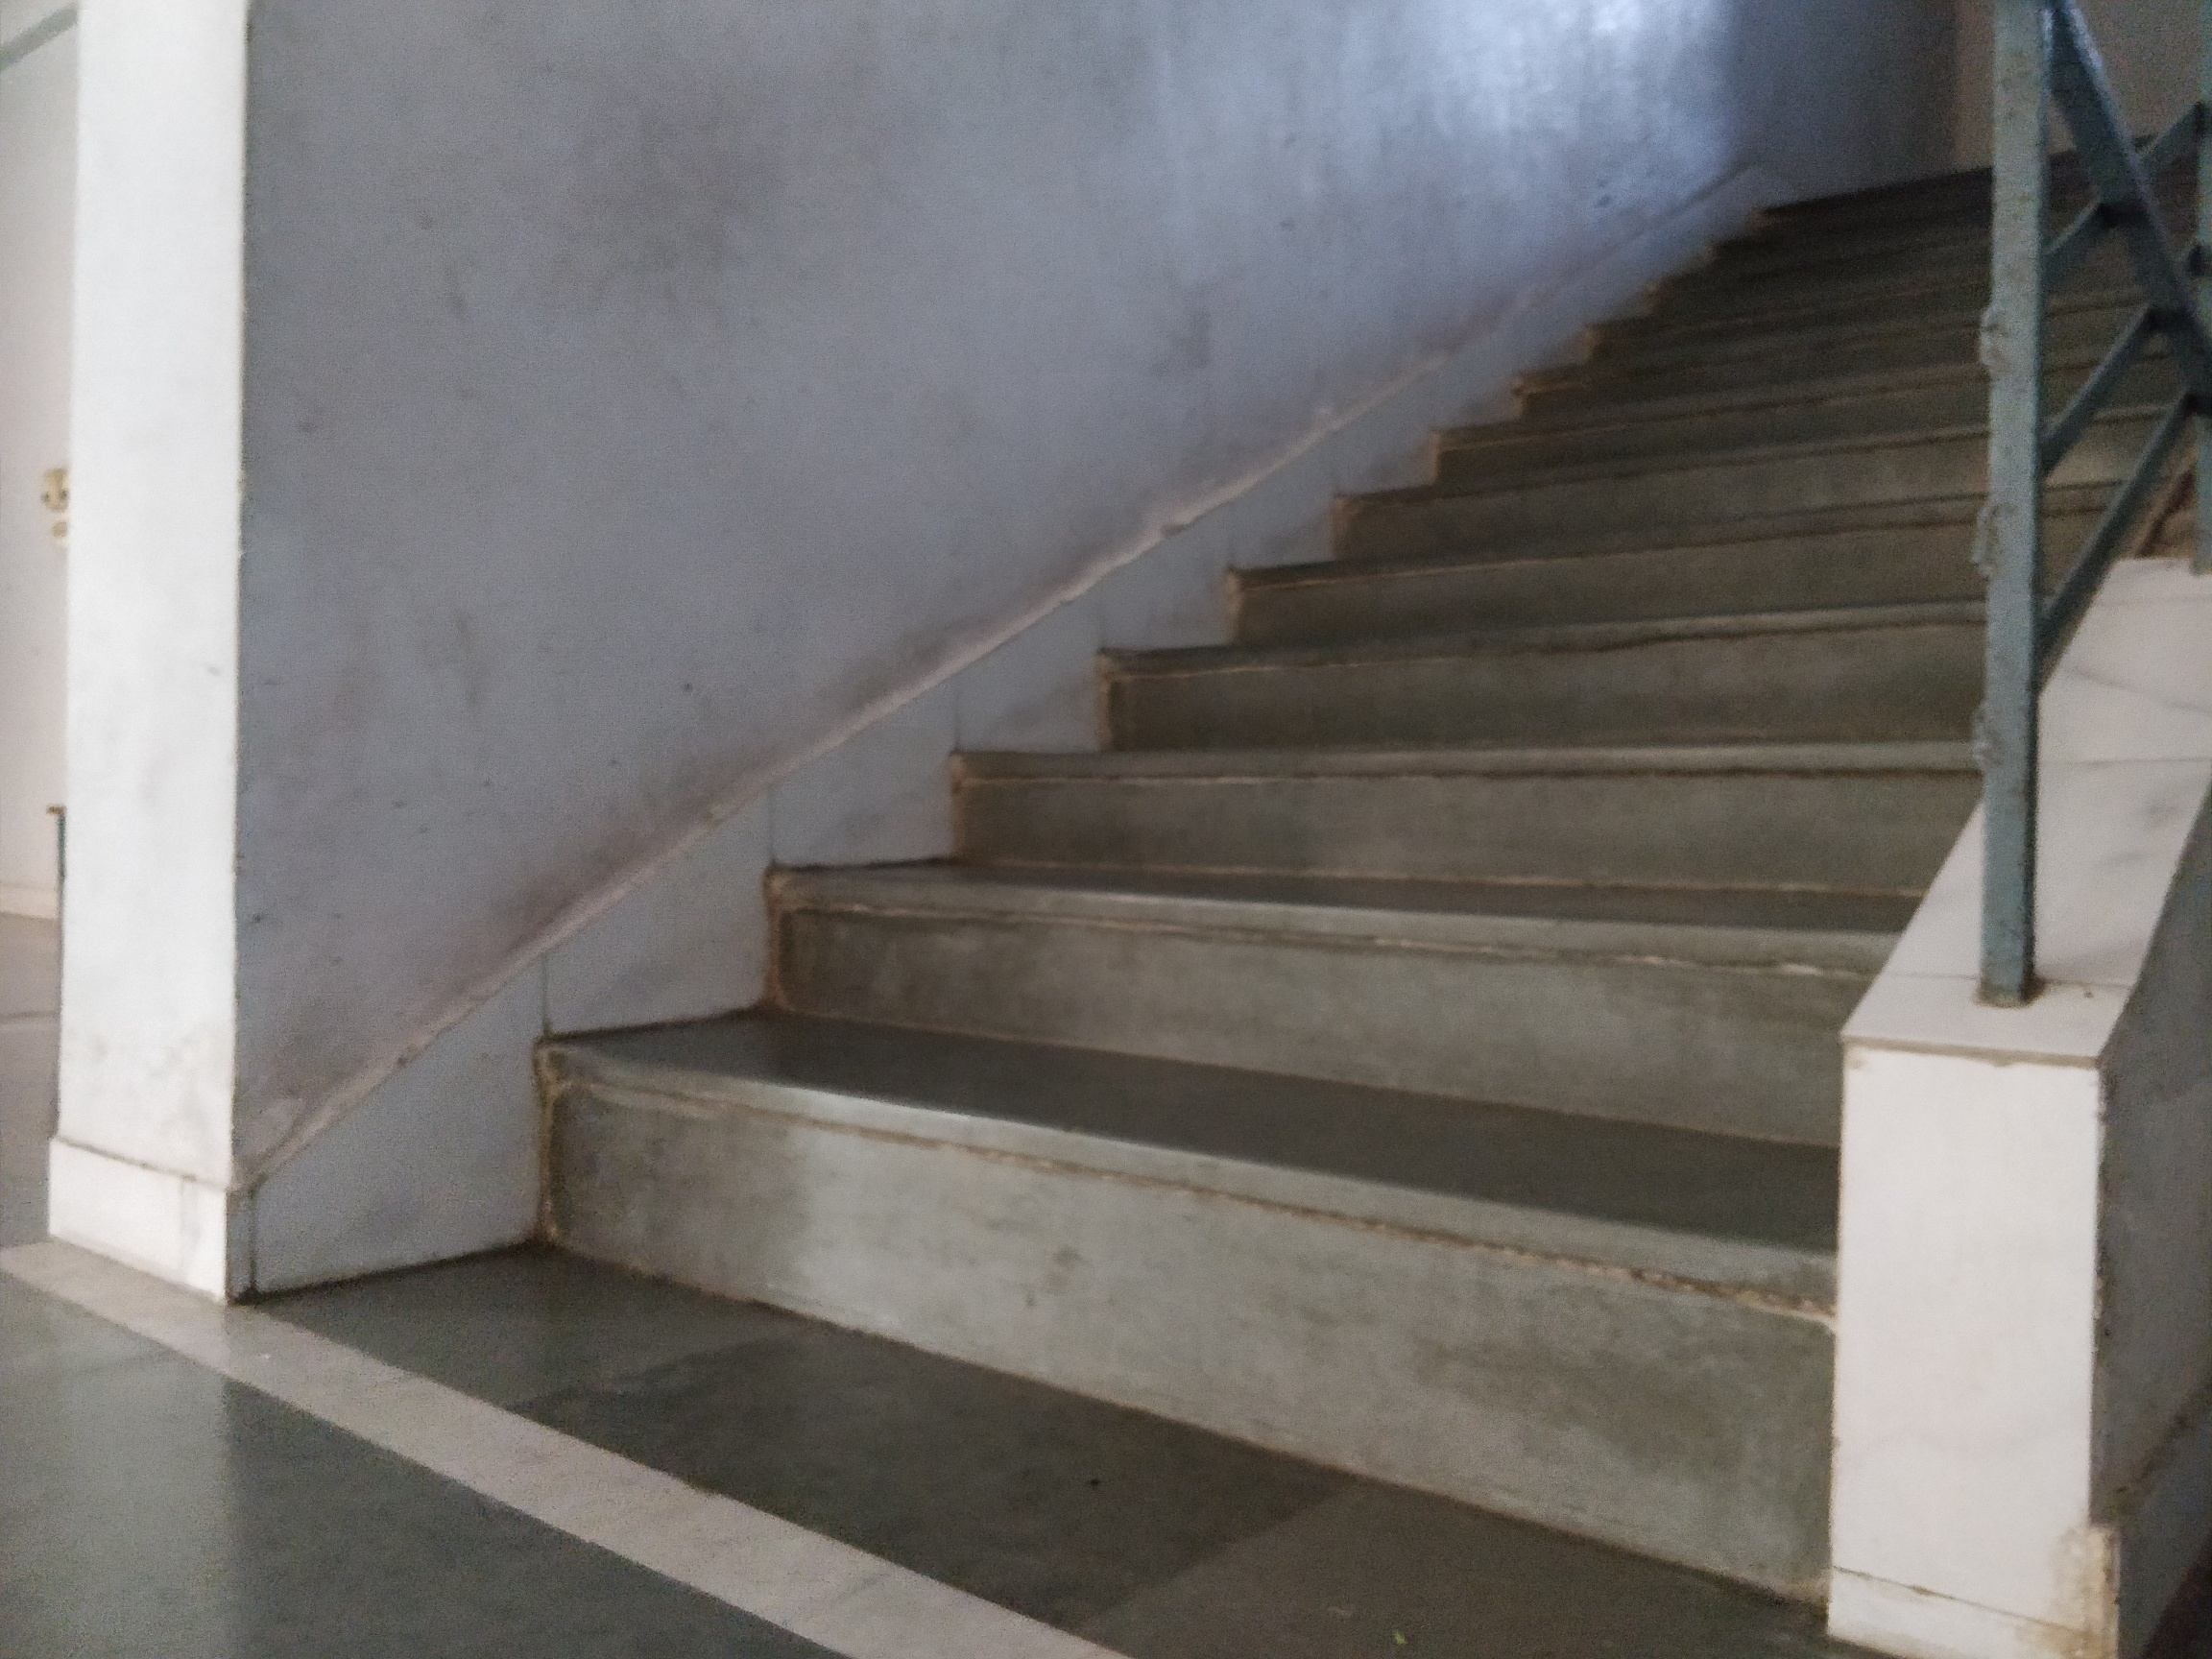stairs_up: (465, 122, 2177, 1584)
